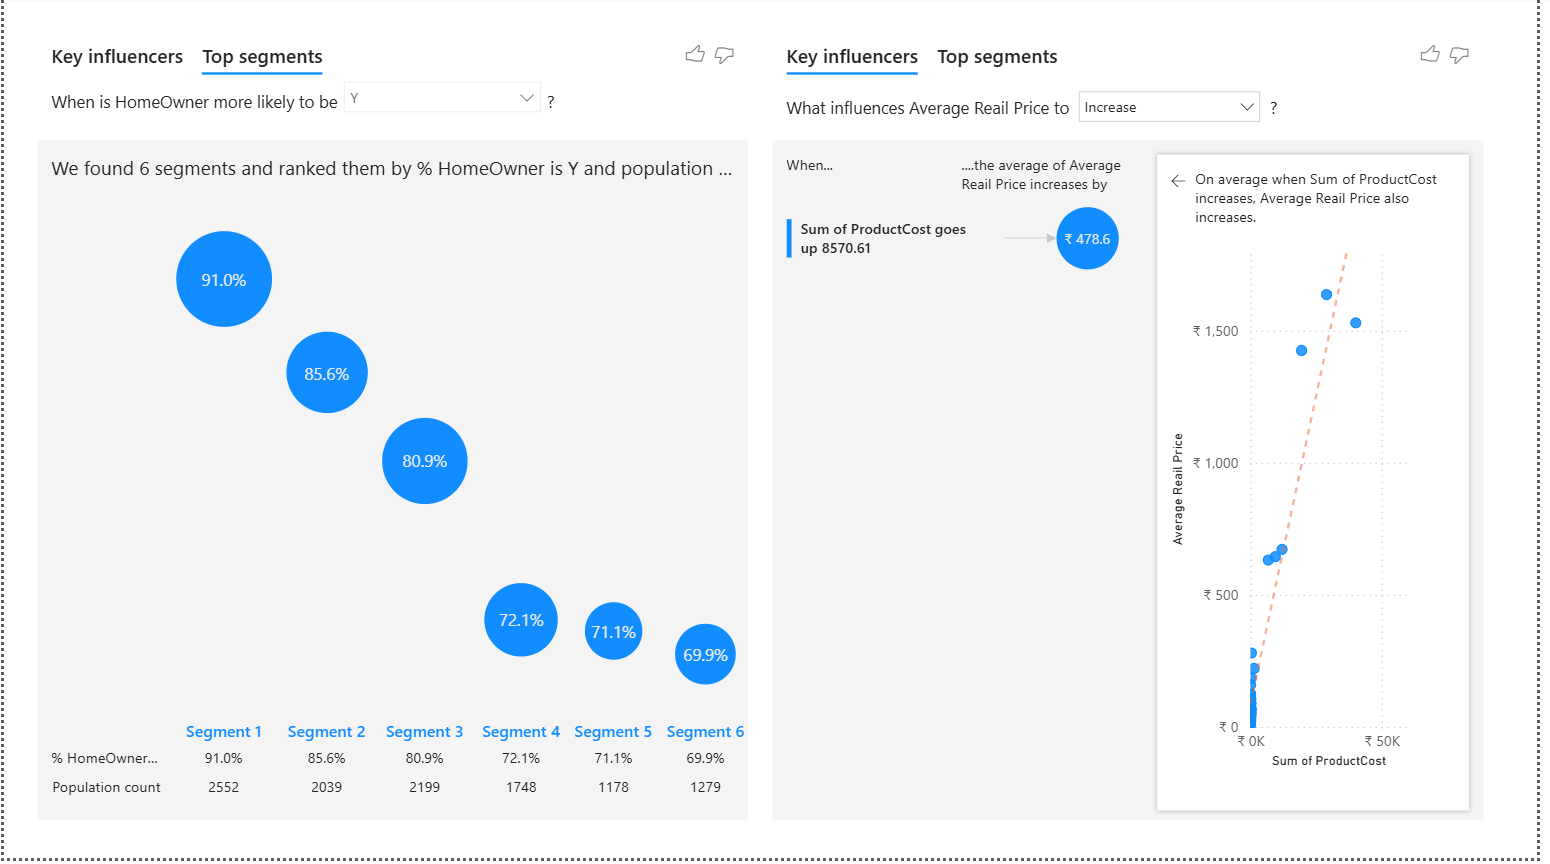

Layout of this report page (visuals, bound fields, positions):
{"tool":"powerbi","page":{"name":"Key Unfluncers","canvas":[1280,720],"ordinal":6},"visuals":[{"type":"keyDriversVisual","fields":{"Target":["Customer Lookup.HomeOwner"],"ExplainBy":["Customer Lookup.AnnualIncome","Customer Lookup.EducationLevel","Customer Lookup.Is Parent","Customer Lookup.MaritalStatus","Customer Lookup.Occupation"]},"box":[22,24.7,603.8,668.3],"z":0},{"type":"keyDriversVisual","fields":{"ExplainBy":["Sum(Product Lookup.ProductCost)"],"Details":["Product Subcategories Lookup.SubcategoryName"],"Target":["Measure Table.Average Reail Price"]},"box":[636,25,604,668],"z":1000}]}

Visuals, with their boxes in screenshot pixels (x1, y1, x2, y2), scaled from the page's 1280x720 canvas onto the 1550x864 screenshot:
keyDriversVisual - Customer Lookup.HomeOwner x Customer Lookup.AnnualIncome: left=27, top=30, right=758, bottom=832
keyDriversVisual - Sum(Product Lookup.ProductCost) x Product Subcategories Lookup.SubcategoryName: left=770, top=30, right=1502, bottom=832
